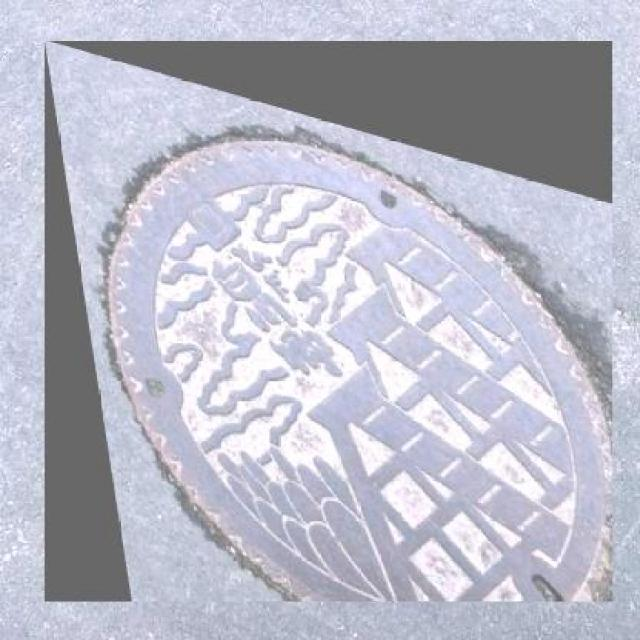Manhole: (51, 36, 620, 598)
